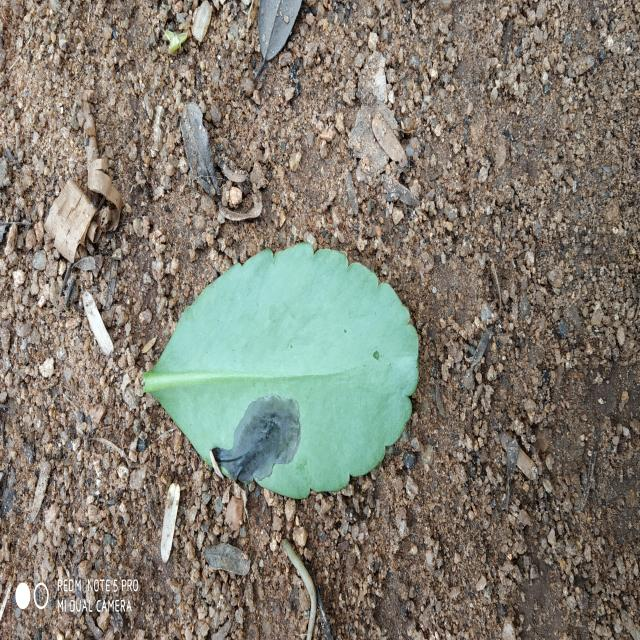defectedspinach: (210, 393, 300, 482)
spinach: (144, 242, 419, 498)
